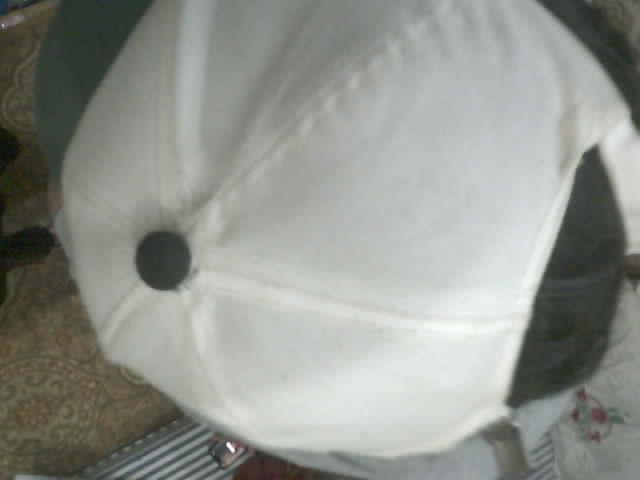cap: (35, 0, 640, 461)
